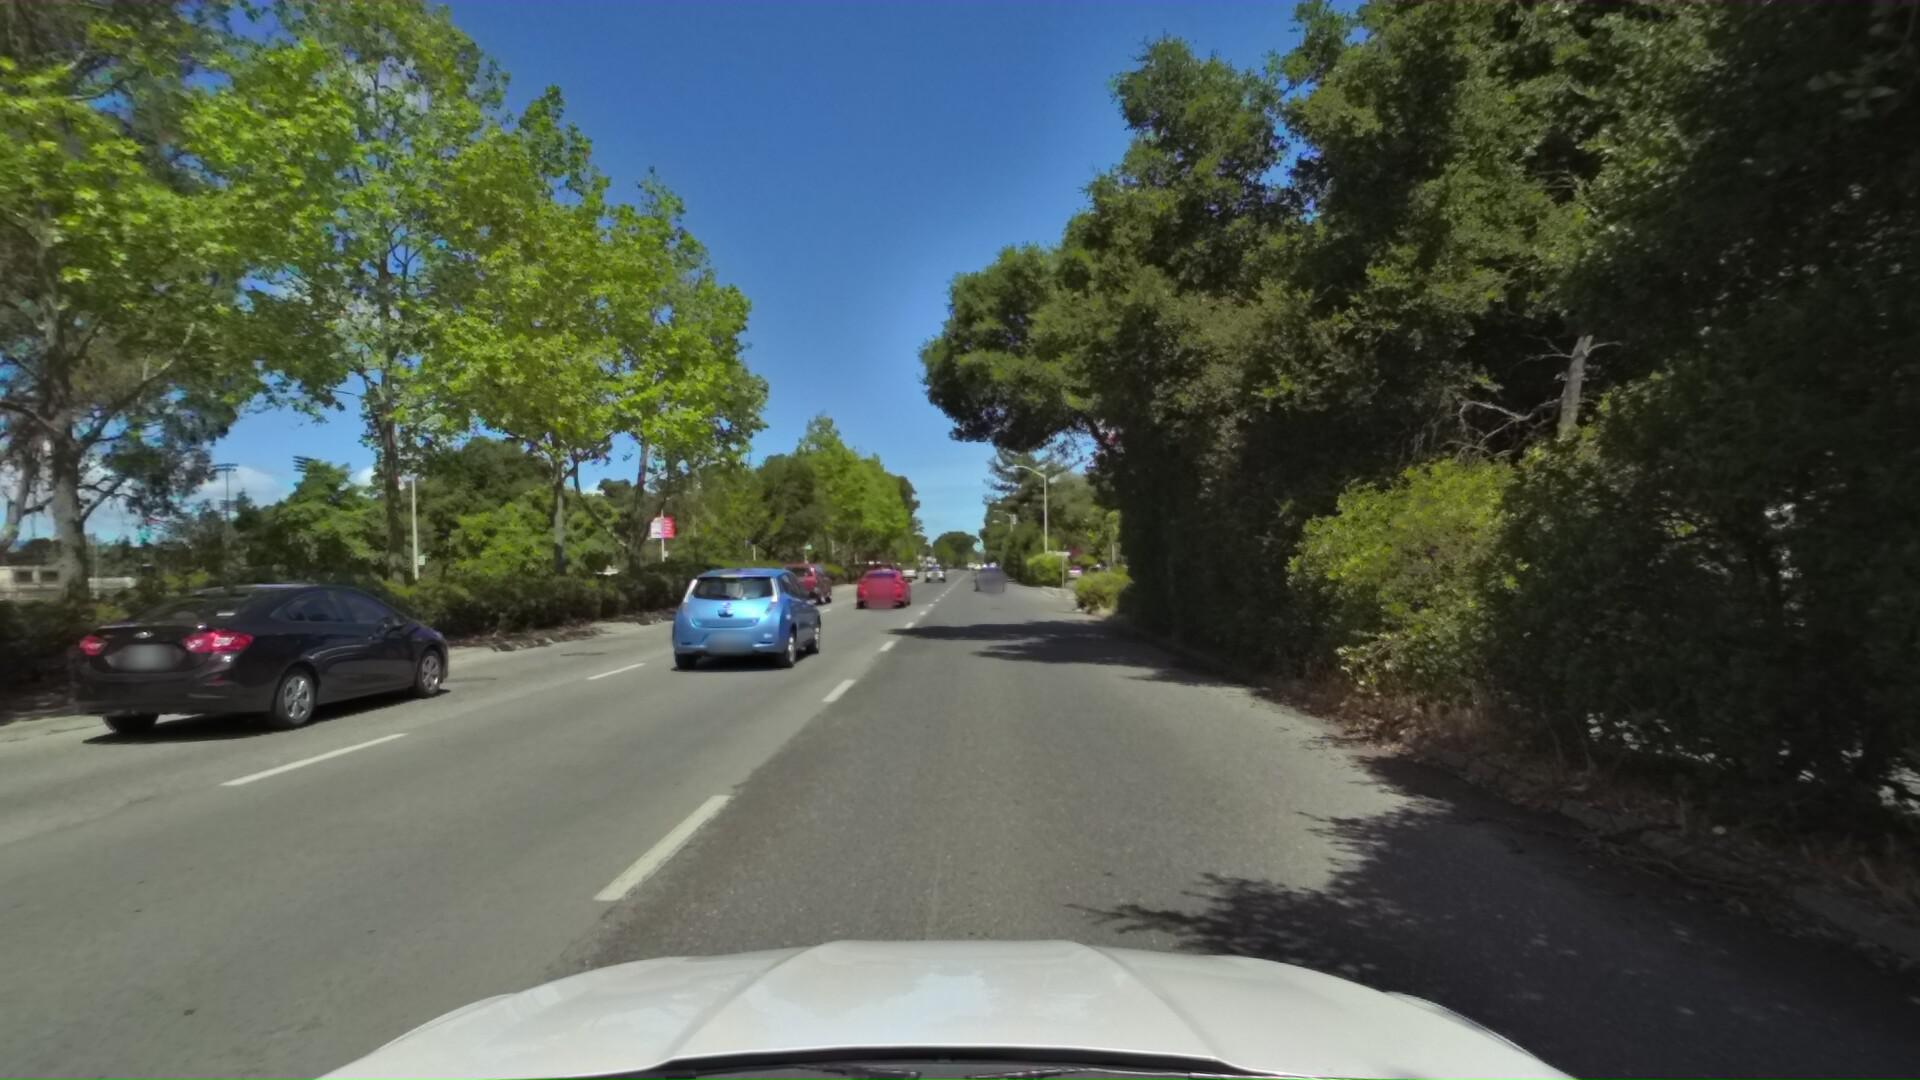car: (34, 593, 465, 778), (655, 566, 827, 679), (778, 559, 839, 607), (853, 564, 913, 609), (968, 562, 1005, 589), (1084, 563, 1109, 587), (922, 562, 947, 582)
